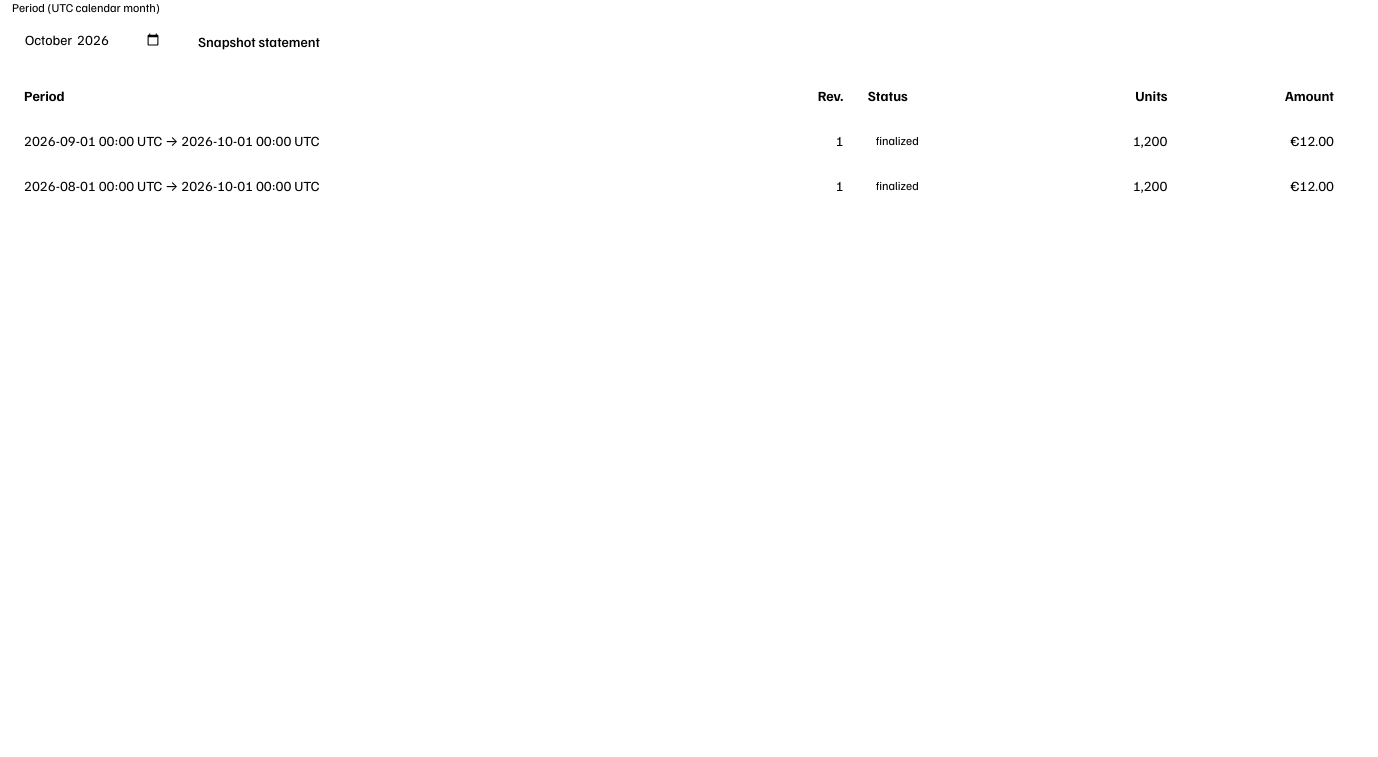
Test: reads the handoff receipt of a finalized statement, and says when there is none
Click the text "2026-09-01 00:00 UTC → 2026-10-01 00:00 UTC" at (172, 140), box [12,118,742,163]
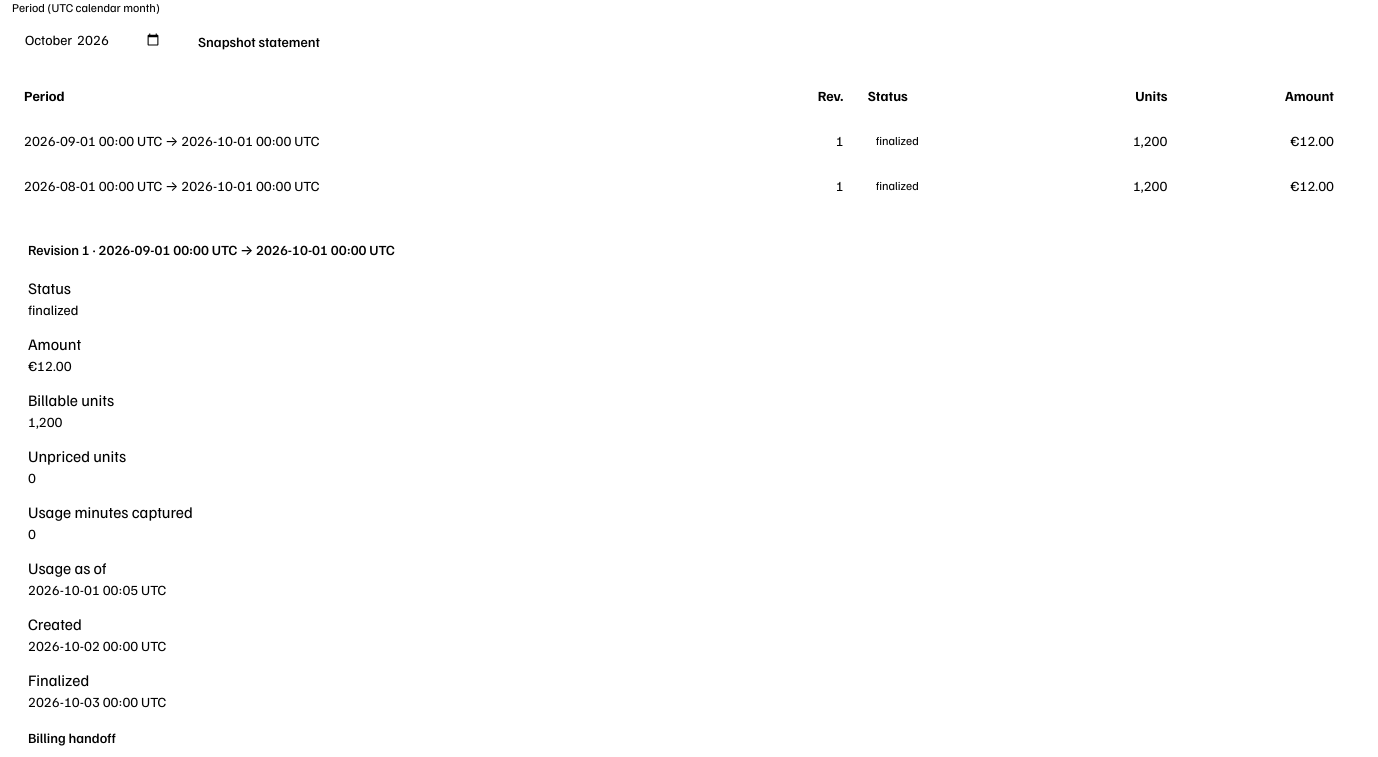
Click the text "2026-08-01 00:00 UTC → 2026-10-01 00:00 UTC" at (172, 185), box [12,163,742,208]
(page scrolled)
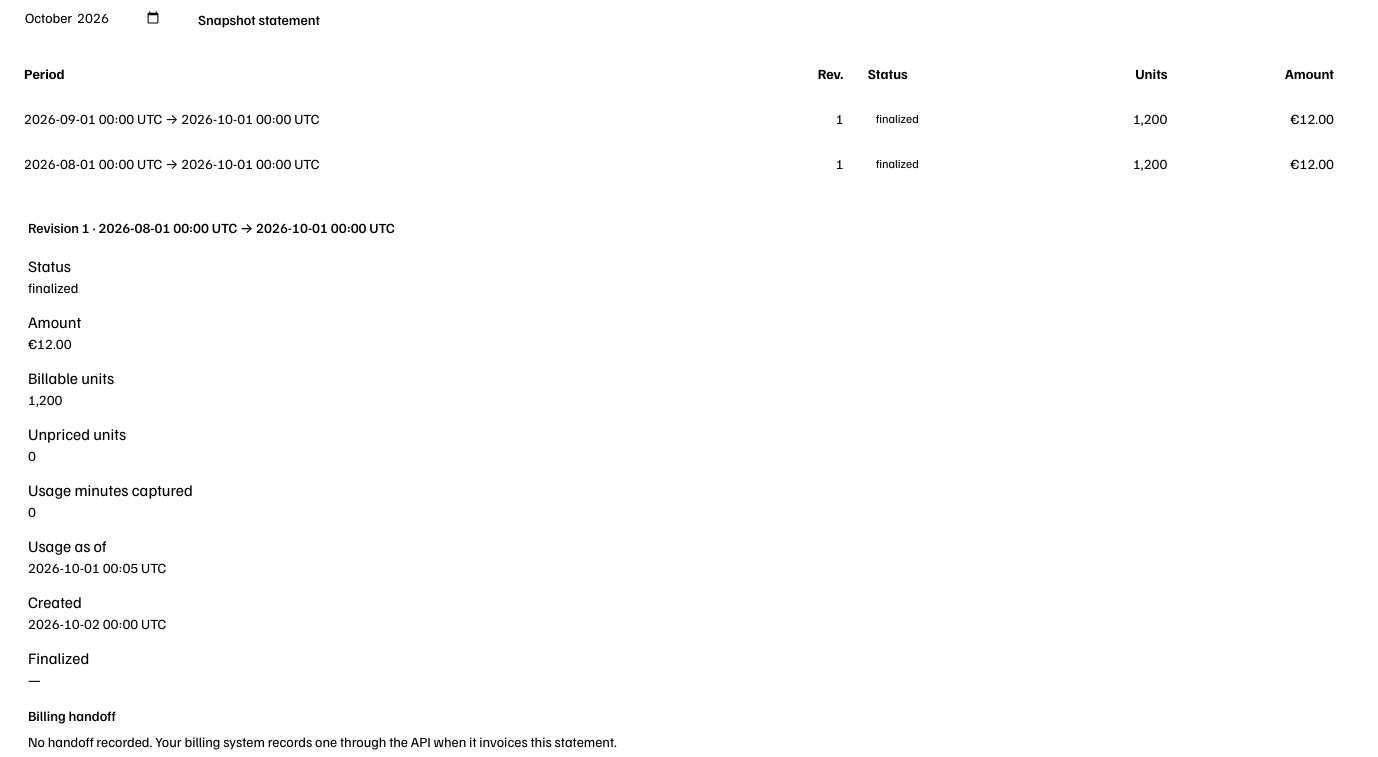
Now the text "No handoff recorded" is shown, box [28,733,617,750]
